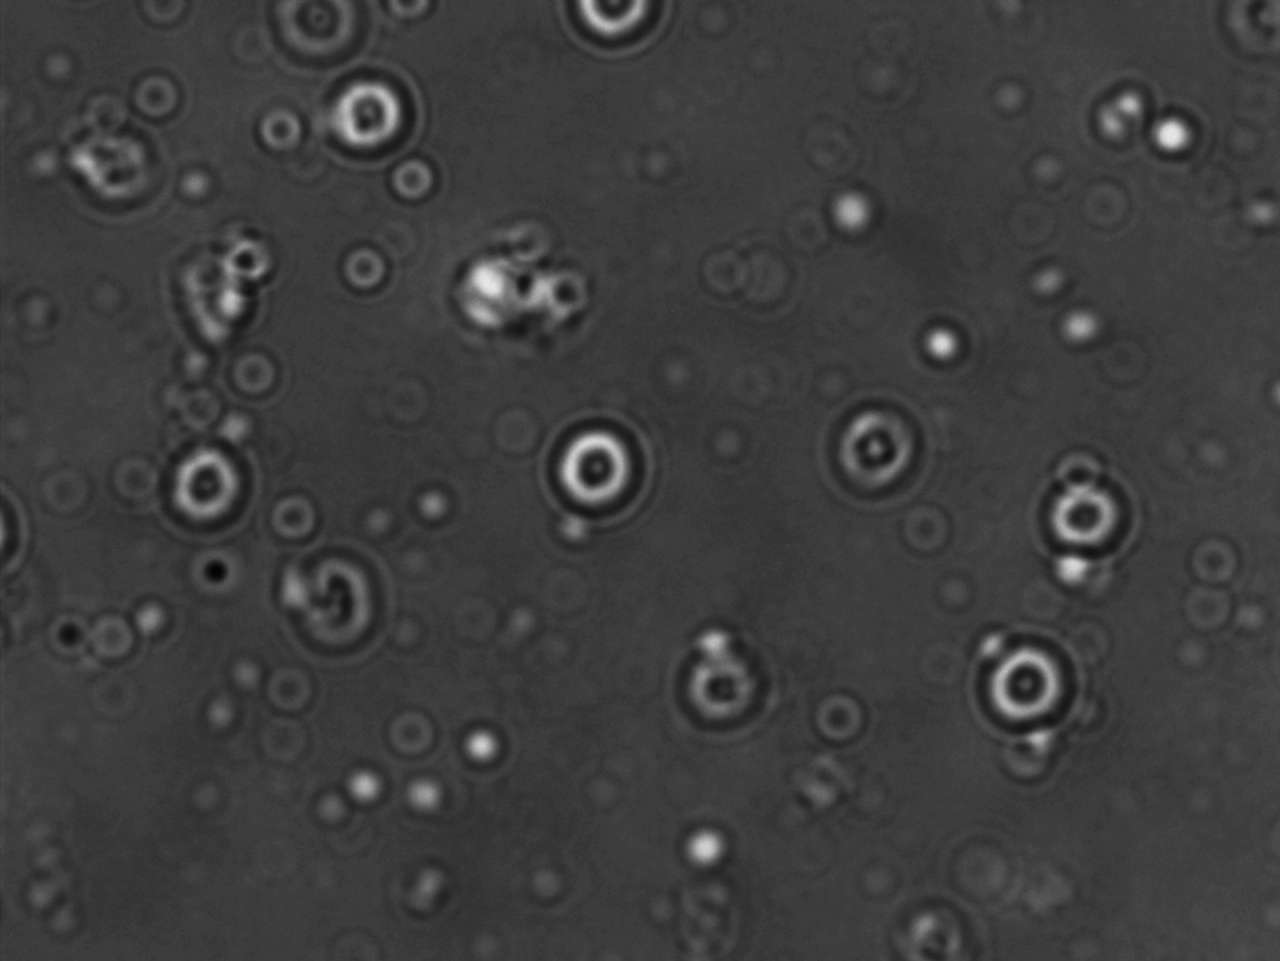depth:8: (531, 407, 657, 529), (968, 623, 1093, 741), (311, 61, 426, 173), (151, 436, 262, 538)
